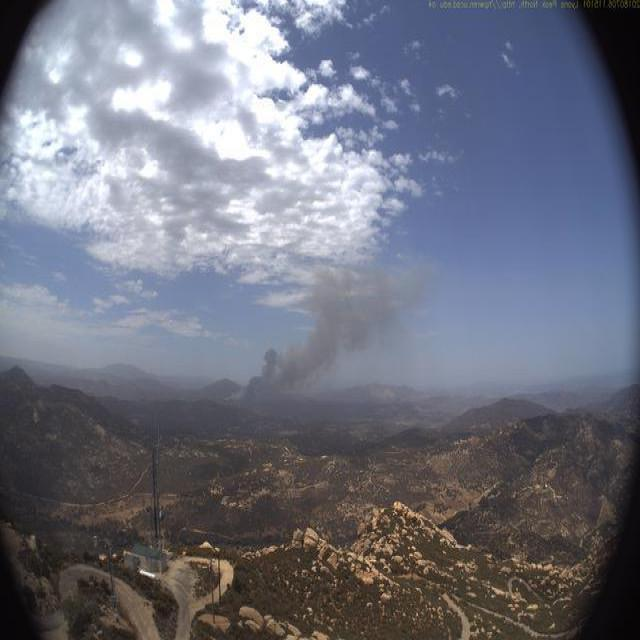Smoke: (223, 250, 449, 424)
